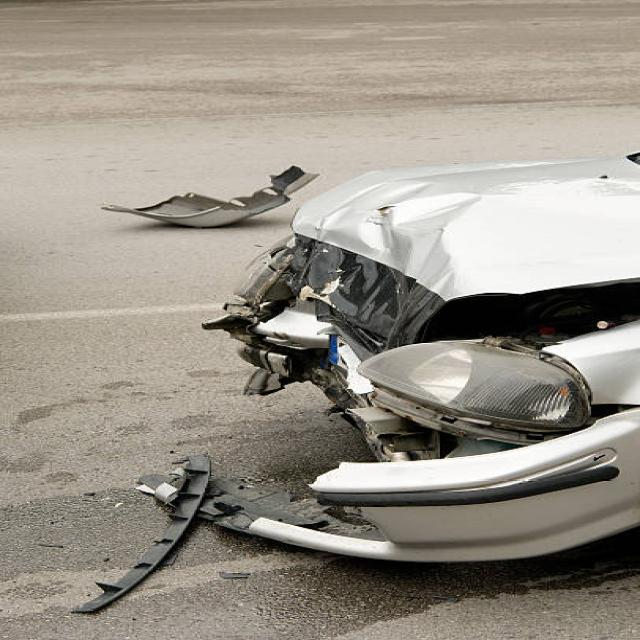Severe Damage: (246, 114, 640, 640)
